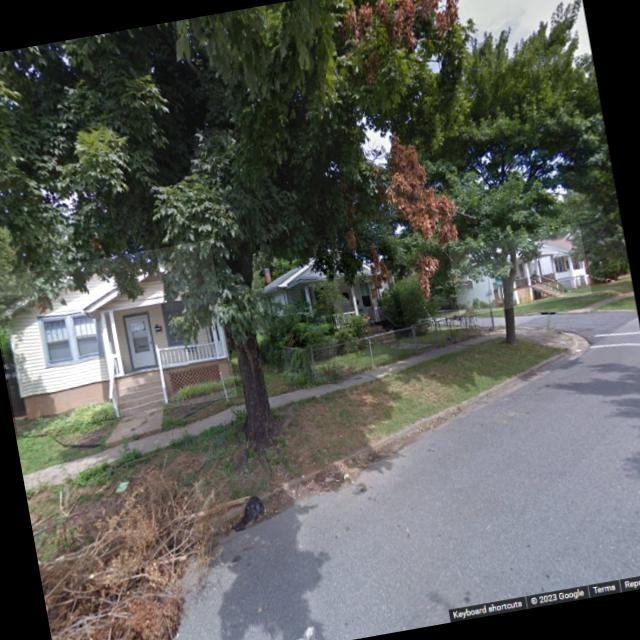House: (0, 239, 237, 434), (258, 244, 405, 350), (448, 225, 592, 316)
